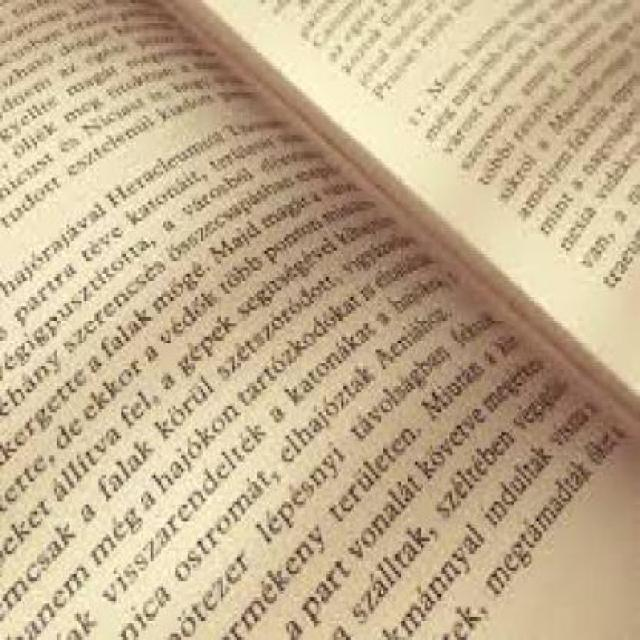PAPER: (0, 0, 638, 638), (160, 0, 638, 420)
